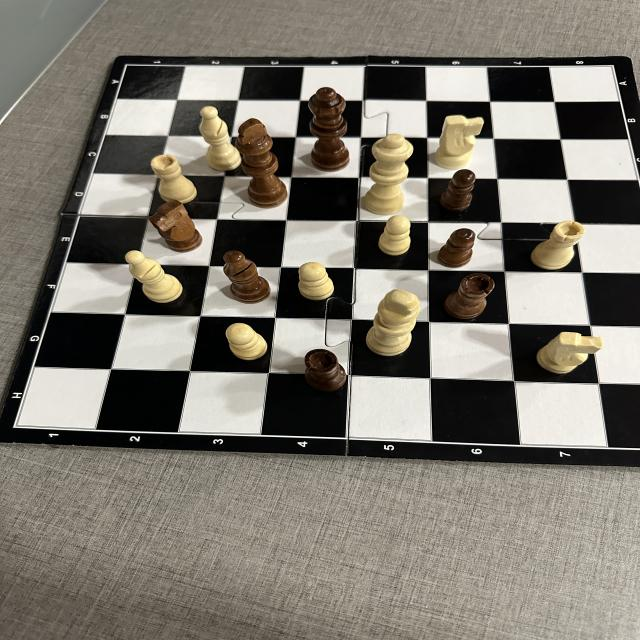Black-Bishop: (222, 250, 273, 304)
Black-King: (237, 118, 287, 208)
Black-Knight: (148, 199, 203, 252)
Black-Pawn: (437, 228, 475, 268), (441, 168, 476, 211)
Black-Queen: (308, 87, 349, 172)
Black-Rook: (445, 273, 495, 320), (304, 348, 347, 392)
White-Bishop: (125, 250, 184, 305)
White-King: (367, 289, 420, 356)
White-Knight: (538, 332, 602, 374), (436, 116, 484, 170)
White-Pawn: (199, 106, 242, 171), (226, 322, 267, 360), (298, 261, 334, 300), (379, 216, 411, 256)
White-Queen: (365, 133, 413, 215)
White-Rook: (531, 220, 584, 270), (150, 156, 197, 204)
